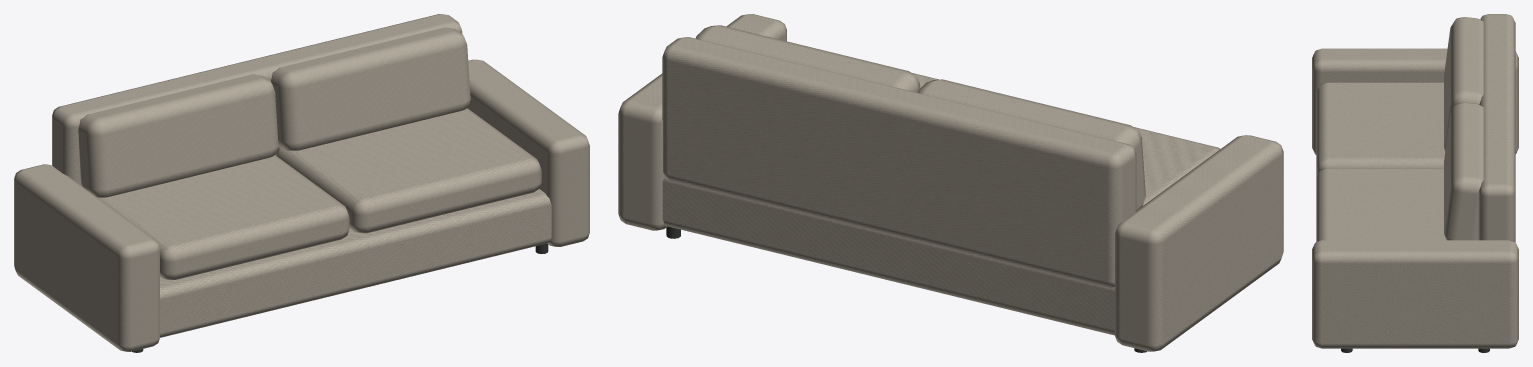
The model's file is kivik-sofa-mobile.glb.
The picture shows the model from 3 angles, left to right: view 1: azimuth 30°, elevation 25°; view 2: azimuth 150°, elevation 25°; view 3: azimuth 270°, elevation 25°; orthographic projection. The views are drawn at different scales.
Visible parts, largest first — view 1: KIVIK 3-seat sofa; view 2: KIVIK 3-seat sofa; view 3: KIVIK 3-seat sofa.
Part boxes in pixels (<box>): KIVIK 3-seat sofa: <box>14,14,589,352</box>; KIVIK 3-seat sofa: <box>618,14,1283,352</box>; KIVIK 3-seat sofa: <box>1312,14,1518,352</box>.
Size of the model in its own units: 2.28 by 0.83 by 0.95.
2 materials, 2 textured.
